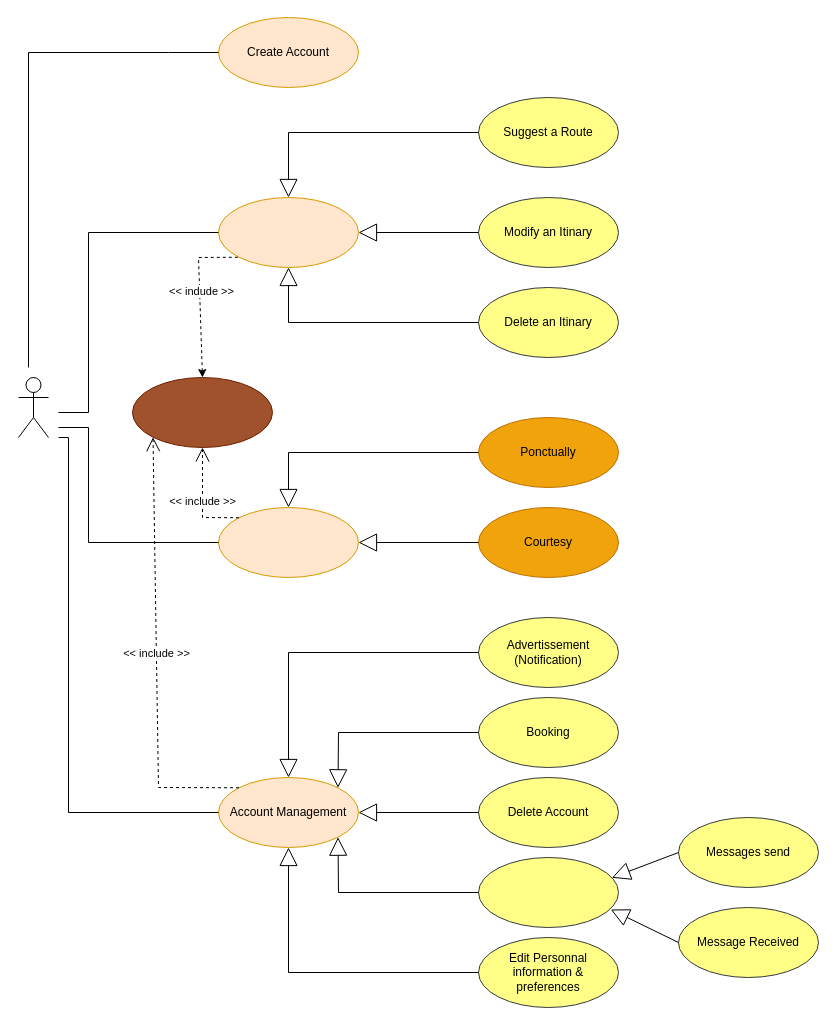
Image size: 836x1025. Some labels were removed from this diagram. The shapes that lost their labels are listed below. From the top down, each one's centre as x and y in pixels, then its label:
At (288,232): "Route Management".
At (33,407): "Driver".
At (202,412): "Sign in".
At (288,542): "Note Passager".
At (548,892): "Messages".
